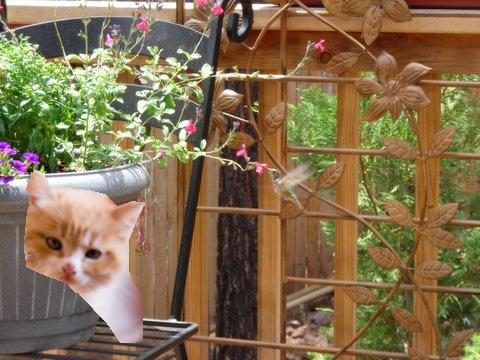tampered: (25, 170, 145, 343)
